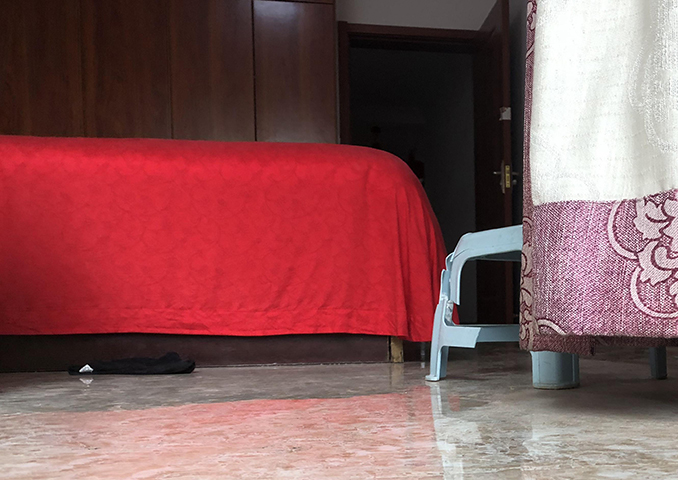bed: (1, 135, 460, 367)
curtain: (517, 1, 678, 359)
socks: (68, 351, 197, 376)
stool: (427, 225, 576, 390)
